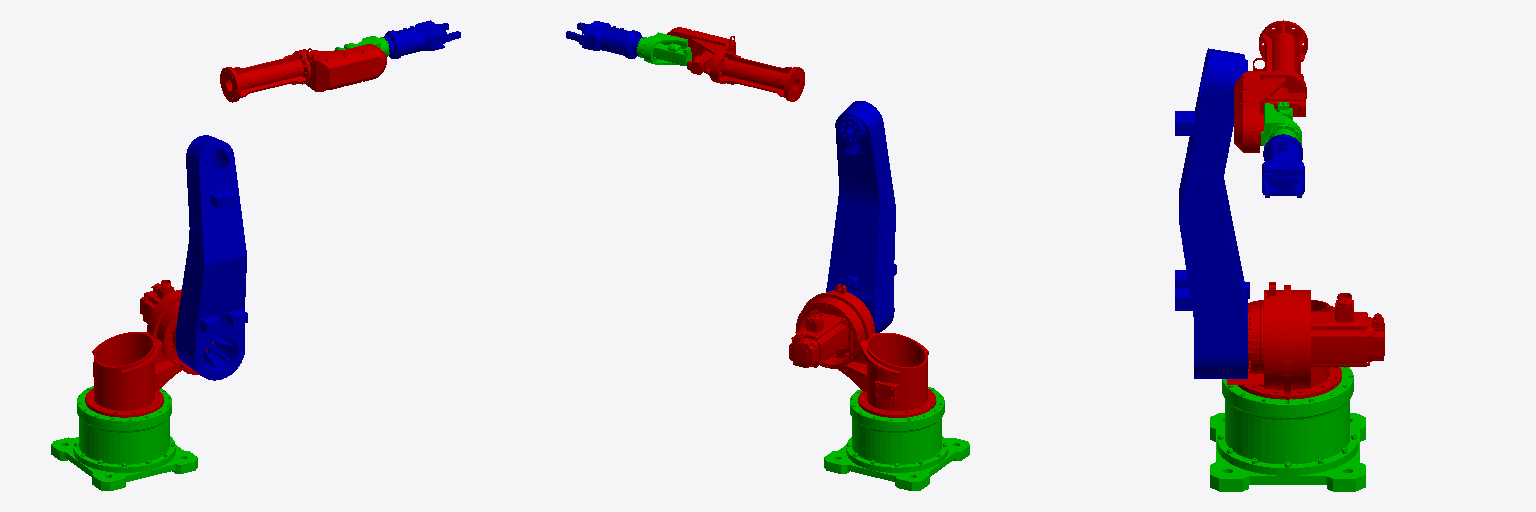
URDF robot description (X-5002):
<?xml version="1.0" ?>
<!-- =================================================================================== -->
<!-- |    This document was autogenerated by xacro from puma560_robot.urdf.xacro       | -->
<!-- |    EDITING THIS FILE BY HAND IS NOT RECOMMENDED                                 | -->
<!-- =================================================================================== -->
<robot name="X-5002" xmlns:xacro="http://www.ros.org/wiki/xacro">
  <material name="blue">
    <color rgba="0 0 0.8 0.8"/>
  </material>
  <material name="red">
    <color rgba="0.8 0 0 0.8"/>
  </material>
  <material name="green">
    <color rgba="0 0.8 0 0.8"/>
  </material>
  <!-- DH Paramaters -->
  <link name="link1">
    <visual>
      <geometry>
        <mesh filename="package://MERA5002_description/meshes/base_link.stl"/>
      </geometry>
      <origin
        xyz="0 0 0.03"
        rpy="1.57079632679 0 0"/>
        <!-- rpy="1.57079632679 0 0"/> -->
      <material name="green"/>
    </visual>
  </link>
  <link name="link2">
    <visual>
      <geometry>
        <mesh filename="package://MERA5002_description/meshes/link1.stl"/>
      </geometry>
      <origin
        rpy="0 0 0" 
        xyz="0 0 0"/>
      <material name="red"/>
    </visual>
  </link>
  <joint name="j1" type="revolute">
    <parent link="link1"/>
    <child link="link2"/>
    <origin 
      rpy="1.5708 0 1.57079632679" 
      xyz="0 0 0.377"/>
    <axis xyz="0 1 0"/>
    <!-- This is descibed in child frame -->
    <limit effort="1000.0" lower="-3.14159265" upper="3.14159265" velocity="0"/>
  </joint>
  <link name="link3">
    <visual>
      <geometry>
        <mesh filename="package://MERA5002_description/meshes/link2.stl"/>
      </geometry>
      <origin 
        xyz="0 0 0"
        rpy="0 1.57079632679 0" />
      <material name="blue"/>
    </visual>
  </link>
  <joint name="j2" type="revolute">
    <parent link="link2"/>
    <child link="link3"/>
    <origin 
      rpy="3.1416 0 -1.5708" 
      xyz="-0.0855 0 0.209"/>
    <axis xyz="0 1 0"/>
    <!-- This is descibed in child frame -->
    <limit effort="1000.0" lower="-1.570796325" upper="1.570796325" velocity="0"/>
  </joint>
  <link name="link4">
    <visual>
      <geometry>
        <mesh filename="package://MERA5002_description/meshes/link3.stl"/>
      </geometry>
      <origin 
        rpy="-1.57079632679 1.57079632679 0" 
        xyz="0 0 0"/>
      <material name="green"/>
    </visual>
  </link>
  <joint name="j3" type="revolute">
    <parent link="link3"/>
    <child link="link4"/>
    <origin 
      rpy="0 0 0" 
      xyz="-0.610 -0.076 0"/>
    <axis xyz="0 1 0"/>
    <!-- This is descibed in child frame -->
    <limit effort="1000.0" lower="-1.570796325" upper="1.570796325" velocity="0"/>
  </joint>
  <link name="link5">
    <visual>
      <geometry>
        <mesh filename="package://MERA5002_description/meshes/link4.stl"/>
      </geometry>
      <origin 
        rpy="0 0 0"
        xyz="0 0 0"/>
      <material name="red"/>
    </visual>
  </link>
  <joint name="j4" type="revolute">
    <parent link="link4"/>
    <child link="link5"/>
    <origin 
      rpy="3.14159265359 0 -1.57079632679"
      xyz="-0.149 0 -0.377"/>
    <axis xyz="0 0 1"/>
    <limit effort="1000.0" lower="-1.570796325" upper="1.570796325" velocity="0"/>
  </joint>
  <link name="link6">
    <visual>
      <geometry>
        <mesh filename="package://MERA5002_description/meshes/link5.stl"/>
      </geometry>
      <origin 
        rpy="0 1.57079632679 3.14159265359"
        xyz="0 0.055 0"/>
      <material name="green"/>
    </visual>
  </link>
  <joint name="j5" type="revolute">
    <parent link="link5"/>
    <child link="link6"/>
    <origin 
      rpy="1.57079632679 0 0"
      xyz="0 0 0.198"/>
    <axis xyz="1 0 0"/>
    <limit effort="1000.0" lower="-1.570796325" upper="1.570796325" velocity="0"/>
  </joint>
  <link name="link7">
    <visual>
      <geometry>
        <mesh filename="package://MERA5002_description/meshes/link6.stl"/>
      </geometry>
      <origin 
        rpy="0 0 0"
        xyz="0 0 0.0075"/>
      <material name="blue"/>
    </visual>
  </link>
  <joint name="j6" type="revolute">
    <parent link="link6"/>
    <child link="link7"/>
    <origin 
      rpy="1.57079632679 0 0"
      xyz="0 0.107 0"/>
    <axis xyz="0 0 1"/>
    <limit effort="1000.0" lower="-3.14159265359" upper="3.14159265359" velocity="0"/>
  </joint>
  <link name="link_gripper_body">
    <visual>
      <geometry>
        <mesh filename="package://MERA5002_description/meshes/gripper_body.stl"/>
      </geometry>
      <origin 
        rpy="3.14159265359 0 0"
        xyz="0 0 0.206"/>
      <material name="blue"/>
    </visual>
  </link>
  <joint name="j7" type="fixed">
    <parent link="link7"/>
    <child link="link_gripper_body"/>
    <origin 
      rpy="0 0 0"
      xyz="0 0 -0.206"/>
  </joint>
  <link name="link_finger_u">
    <visual>
      <geometry>
        <mesh filename="package://MERA5002_description/meshes/gripper_finger_u.stl"/>
      </geometry>
      <origin 
        rpy="3.14159265359 0 0"
        xyz="0 0 0.206"/>
      <material name="blue"/>
    </visual>
  </link>
  <joint name="j_gripper_finger_u" type="prismatic">
    <parent link="link_gripper_body"/>
    <child link="link_finger_u"/>
    <origin 
      rpy="0 0 0"
      xyz="0 0 0"/>
    <axis xyz="1 0 0"/>
    <limit effort="1000.0" lower="0" upper="0.03" velocity="0"/>
  </joint>
  <link name="link_finger_b">
    <visual>
      <geometry>
        <mesh filename="package://MERA5002_description/meshes/gripper_finger_b.stl"/>
      </geometry>
      <origin 
        rpy="3.14159265359 0 0"
        xyz="0 0 0.206"/>
      <material name="blue"/>
    </visual>
  </link>
  <joint name="j_gripper_finger_b" type="prismatic">
    <parent link="link_gripper_body"/>
    <child link="link_finger_b"/>
    <origin 
      rpy="0 0 0"
      xyz="0 0 0"/>
    <axis xyz="-1 0 0"/>
    <limit effort="1000.0" lower="0" upper="0.03" velocity="0"/>
  </joint>
</robot>

--- Facts derived from the render (not from the file) ---
Views: 3 orthographic renders of the robot side by side, from view 1: azimuth 30°, elevation 25°; view 2: azimuth 150°, elevation 25°; view 3: azimuth 270°, elevation 25°.
Model X-5002 with 10 links and 9 joints (6 revolute, 2 prismatic, 1 fixed), rooted at link1, posed all joints at 0.
Visible links, largest first — view 1: link3, link2, link1, link5, link_gripper_body; view 2: link3, link2, link1, link5, link6, link_gripper_body; view 3: link3, link1, link2, link5, link_gripper_body, link6.
Boxes of the visible links, x1,y1,x2,y2 form: link3: (176, 135, 247, 380); link2: (85, 280, 213, 417); link1: (51, 386, 197, 490); link5: (220, 44, 386, 102); link_gripper_body: (384, 20, 444, 58); link3: (826, 101, 896, 332); link2: (789, 284, 935, 417); link1: (824, 387, 969, 490); link5: (667, 27, 804, 101); link6: (636, 32, 691, 65); link_gripper_body: (582, 21, 641, 58); link3: (1175, 48, 1249, 378); link1: (1210, 367, 1365, 491); link2: (1227, 282, 1384, 399); link5: (1234, 20, 1307, 152); link_gripper_body: (1262, 134, 1304, 195); link6: (1261, 102, 1301, 146).
Size in the robot's own frame: 1.28 by 0.4461 by 1.22 metres.
9 mesh visuals loaded from 10 distinct referenced files (9 binary STL); not drawn: 1 (reference not matched to a file when rendering).